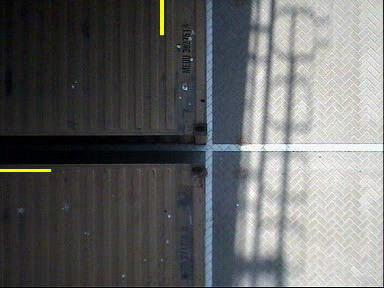groundmarker_2: (186, 121, 237, 158)
